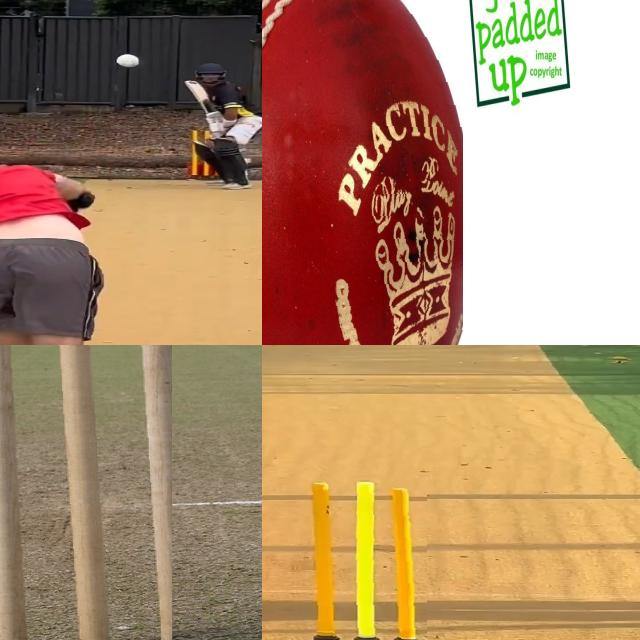Cricket ball: (262, 0, 462, 345), (114, 51, 142, 70)
Stumps: (0, 345, 172, 640), (292, 480, 427, 640)
